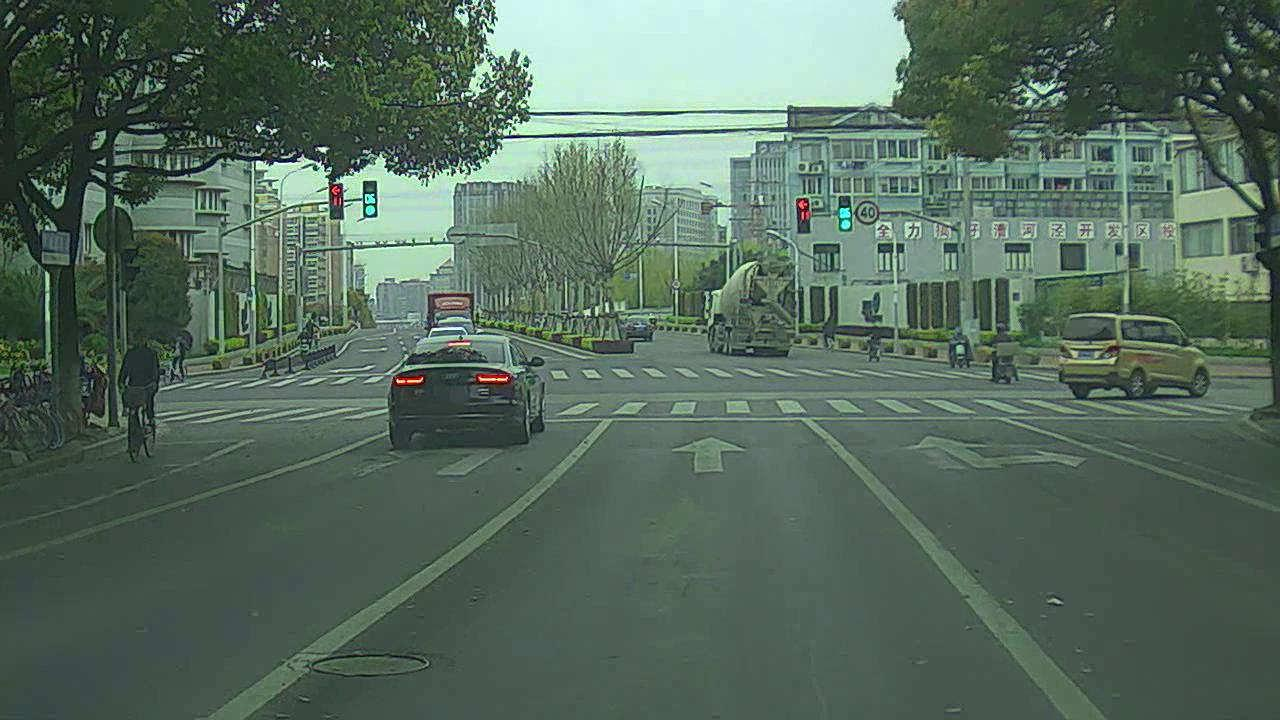traffic_light: (836, 192, 855, 234), (362, 177, 379, 219), (329, 181, 345, 219), (796, 198, 810, 235)
